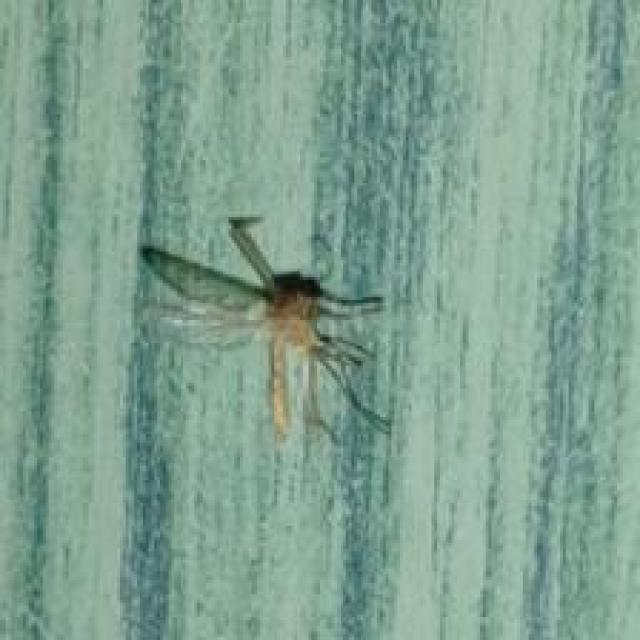Culex: (138, 214, 393, 443)
